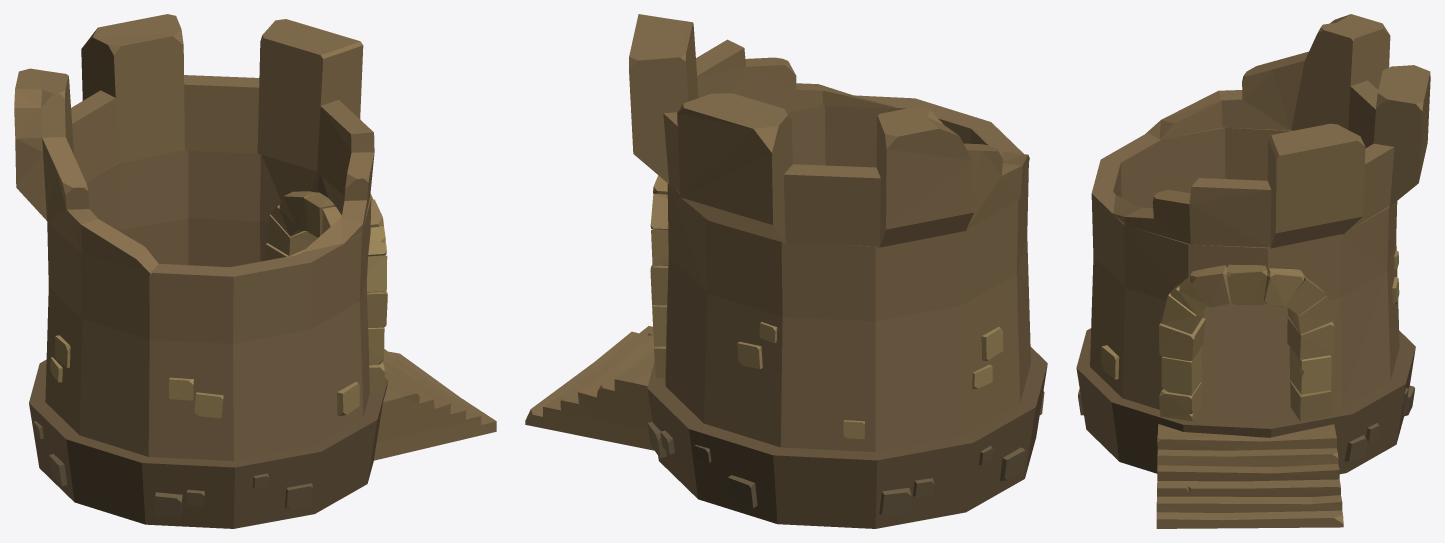
Rendered from sf_dr_tower_stump.glb.
3 views of the same model, side by side, from view 1: azimuth 30°, elevation 25°; view 2: azimuth 150°, elevation 25°; view 3: azimuth 270°, elevation 25° (orthographic). The views are drawn at different scales.
Visible parts, largest first — view 1: sf_dr_tower_stump; view 2: sf_dr_tower_stump; view 3: sf_dr_tower_stump.
Boxes of the visible parts, x1,y1,x2,y2 form: sf_dr_tower_stump: [14, 14, 496, 528]; sf_dr_tower_stump: [525, 14, 1047, 528]; sf_dr_tower_stump: [1076, 14, 1430, 528].
Size of the model in its own units: 8.9 by 7.77 by 7.28.
1 material, 1 textured.
